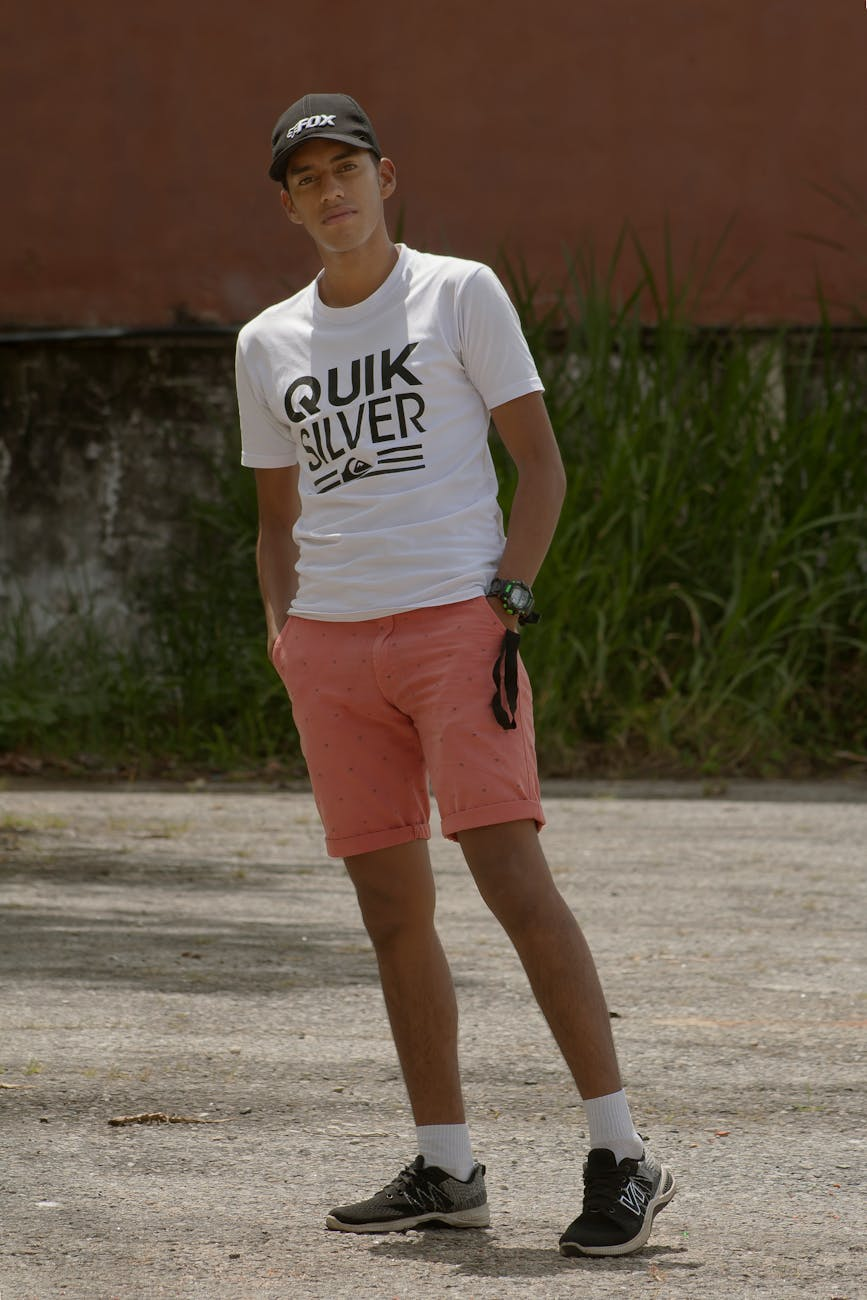shorts: (261, 593, 556, 856)
